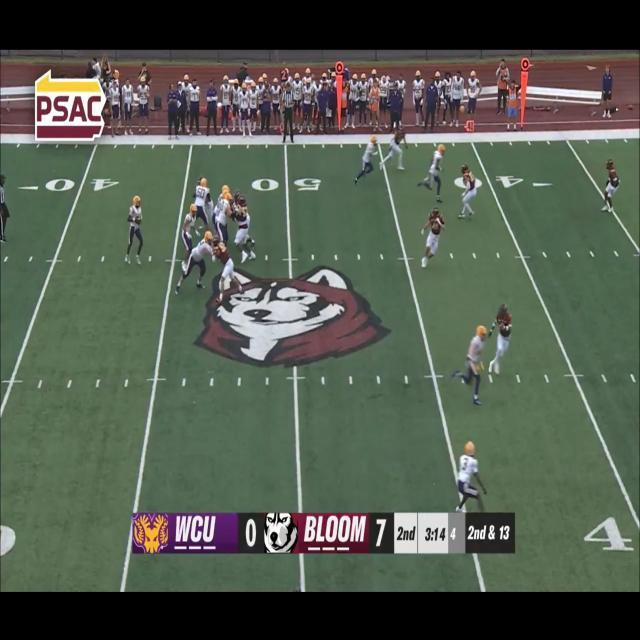football: (134, 215, 144, 228)
